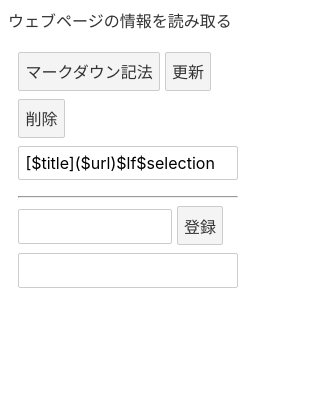
Test: 削除ボタンをクリックしたらフォーマットが削除される
This screenshot has width=320, height=394.
Type "__name__" into the field with test id "new-name" at (95, 227), box [18,209,172,244]
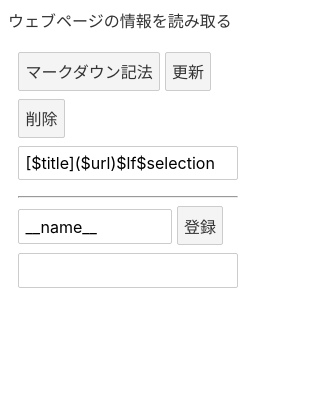
Type "__value__" into the field with test id "new-value" at (128, 270), box [18,253,238,288]
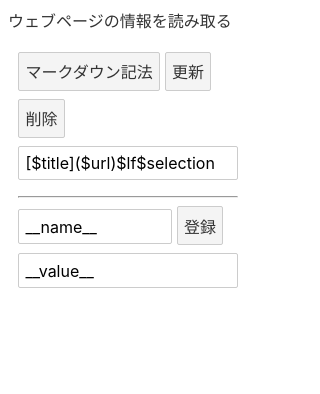
Click the button "登録" at (200, 226), box [176,206,223,245]
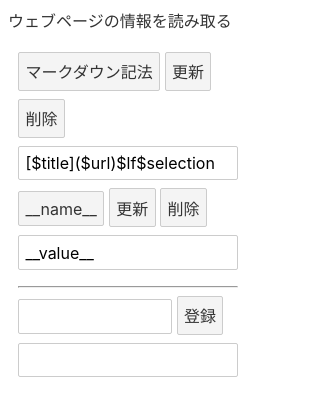
Click the 2nd button "削除" at (184, 208), box [160,188,207,227]
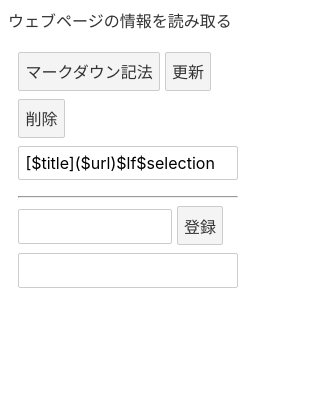
Expected: the field showing "__value__" is not shown
Expected: the button "__name__" is gone
